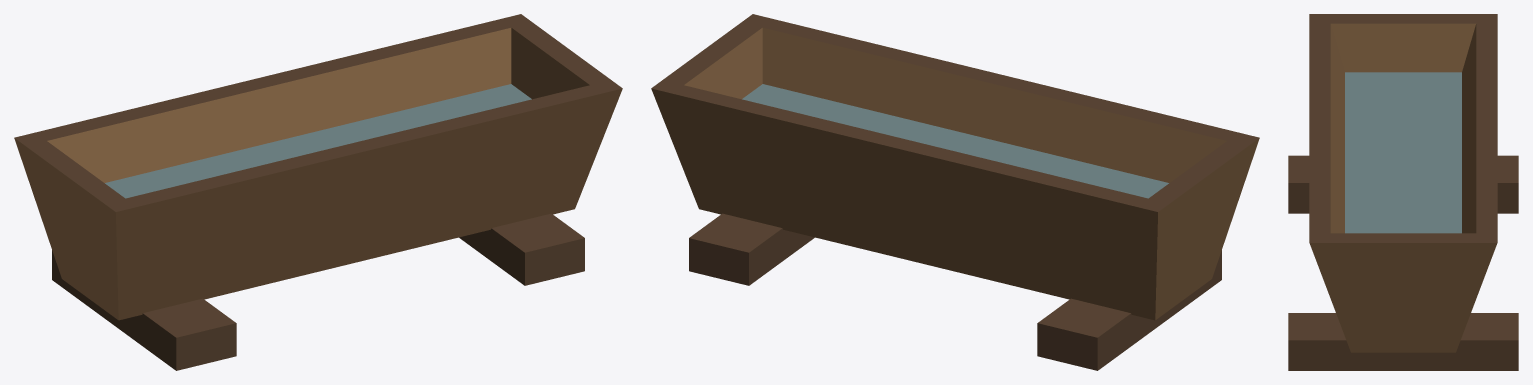
File: water_trough.glb
The picture shows the model from 3 angles, left to right: view 1: azimuth 30°, elevation 25°; view 2: azimuth 150°, elevation 25°; view 3: azimuth 270°, elevation 25°; orthographic projection. The views are drawn at different scales.
Parts seen in each view (by area): view 1: Water trough; view 2: Water trough; view 3: Water trough.
Boxes of the visible parts, box(x1,y1,x2,y2) form: Water trough: box(14, 14, 622, 370); Water trough: box(651, 14, 1259, 370); Water trough: box(1288, 14, 1518, 370).
Bounding box in the file's own units: 1.6 × 0.49 × 0.68.
